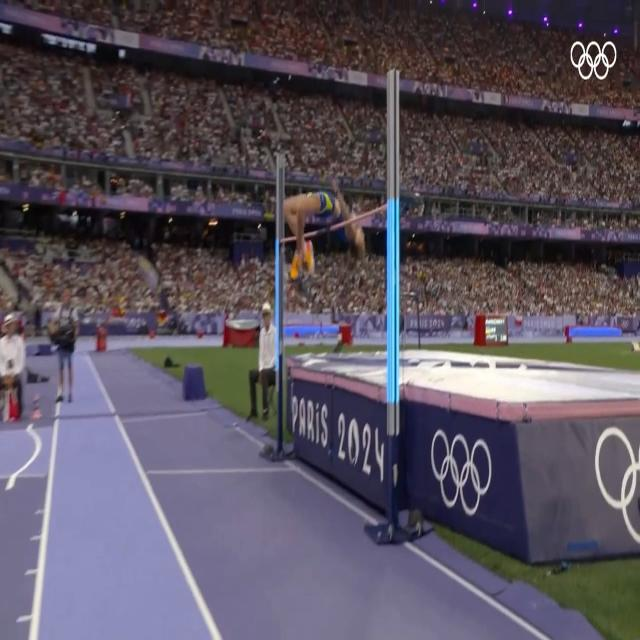jump: (281, 175, 367, 281)
